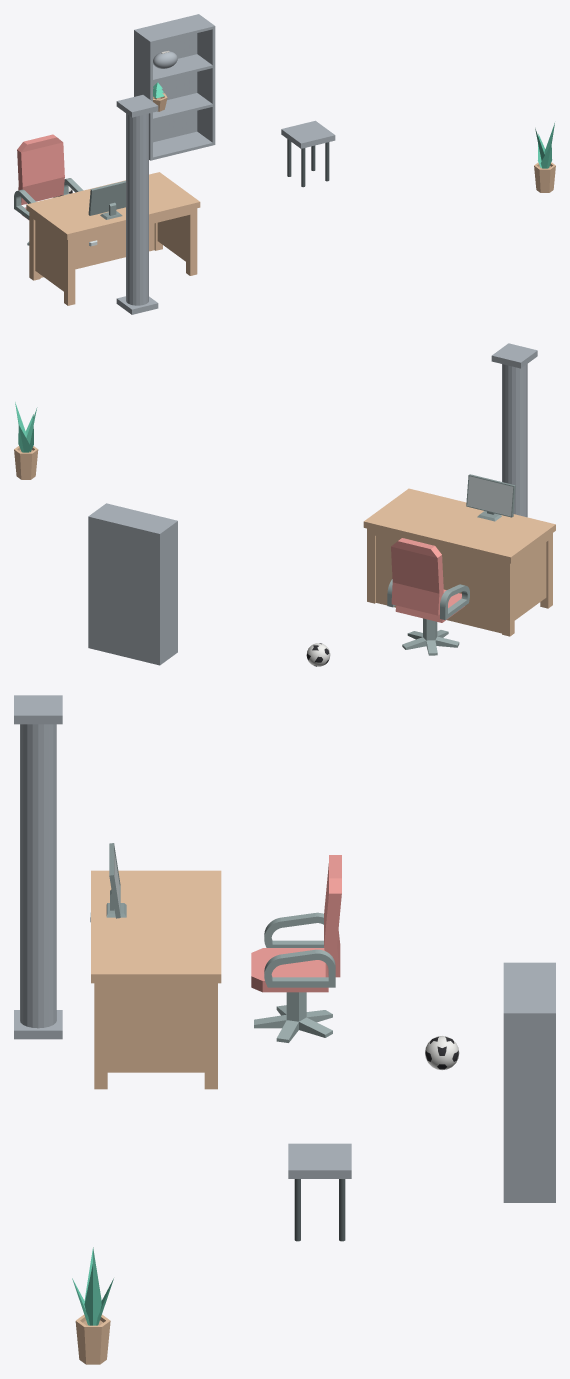
The picture shows the model from 3 angles, top to bottom: view 1: azimuth 30°, elevation 25°; view 2: azimuth 150°, elevation 25°; view 3: azimuth 270°, elevation 25°; orthographic projection. The views are drawn at different scales.
Parts seen in each view (by area): view 1: desk_blue__desk(Clone), column_cyan__column_cyan shaft, deskchair_black__chair, shelf_orange__shelf_orange back, shelf_orange__shelf_orange side_r, shelf_orange__shelf_orange side_l, monitor_gray__computerScreen(Clone), shelf_orange__shelf_orange board3, stool_purple__stool_purple seat, shelf_orange__shelf_orange board0, shelf_orange__shelf_orange board1, shelf_orange__shelf_orange board2 (+4 smaller); view 2: desk_blue__desk(Clone), shelf_orange__shelf_orange back, deskchair_black__chair, column_cyan__column_cyan shaft, shelf_orange__shelf_orange side_l, monitor_gray__computerScreen(Clone), shelf_orange__shelf_orange board3, deskchair_black__chairDesk(Clone), column_cyan__column_cyan capital, plant_pink__pottedPlant(Clone), plant_pink__plant, soccer_white__soccer_white (+1 smaller); view 3: desk_blue__desk(Clone), column_cyan__column_cyan shaft, shelf_orange__shelf_orange side_r, deskchair_black__chair, shelf_orange__shelf_orange board3, stool_purple__stool_purple seat, deskchair_black__chairDesk(Clone), column_cyan__column_cyan capital, plant_pink__pottedPlant(Clone), plant_pink__plant, soccer_white__soccer_white, column_cyan__column_cyan plinth (+1 smaller).
Part boxes in pixels (x1,y1,x2,y2): desk_blue__desk(Clone): (26,172,200,305); column_cyan__column_cyan shaft: (126,113,148,305); deskchair_black__chair: (14,134,83,219); shelf_orange__shelf_orange back: (137,14,197,142); shelf_orange__shelf_orange side_r: (197,14,215,145); shelf_orange__shelf_orange side_l: (134,29,152,160); monitor_gray__computerScreen(Clone): (88,180,125,219); shelf_orange__shelf_orange board3: (138,15,212,43); stool_purple__stool_purple seat: (281,120,335,148); shelf_orange__shelf_orange board0: (153,131,212,159); shelf_orange__shelf_orange board1: (153,93,212,121); shelf_orange__shelf_orange board2: (153,54,212,82); desk_blue__desk(Clone): (363,488,555,636); shelf_orange__shelf_orange back: (91,516,157,664); deskchair_black__chair: (387,538,469,622); column_cyan__column_cyan shaft: (502,364,527,517); shelf_orange__shelf_orange side_l: (157,520,177,665); monitor_gray__computerScreen(Clone): (466,474,515,521); shelf_orange__shelf_orange board3: (92,504,174,532); deskchair_black__chairDesk(Clone): (402,618,459,655); column_cyan__column_cyan capital: (491,343,537,368); plant_pink__pottedPlant(Clone): (14,446,38,479); plant_pink__plant: (15,402,37,452); soccer_white__soccer_white: (306,643,330,666); desk_blue__desk(Clone): (91,870,221,1089); column_cyan__column_cyan shaft: (20,724,56,1028); shelf_orange__shelf_orange side_r: (503,1011,555,1202); deskchair_black__chair: (251,855,341,992); shelf_orange__shelf_orange board3: (503,964,552,1011); stool_purple__stool_purple seat: (288,1143,351,1178); deskchair_black__chairDesk(Clone): (254,992,332,1042); column_cyan__column_cyan capital: (14,695,62,724); plant_pink__pottedPlant(Clone): (75,1314,110,1364); plant_pink__plant: (72,1247,113,1325); soccer_white__soccer_white: (425,1036,459,1070); column_cyan__column_cyan plinth: (14,1010,62,1039).
Bounding box in the file's own units: 5.75 × 2.28 × 3.46.
